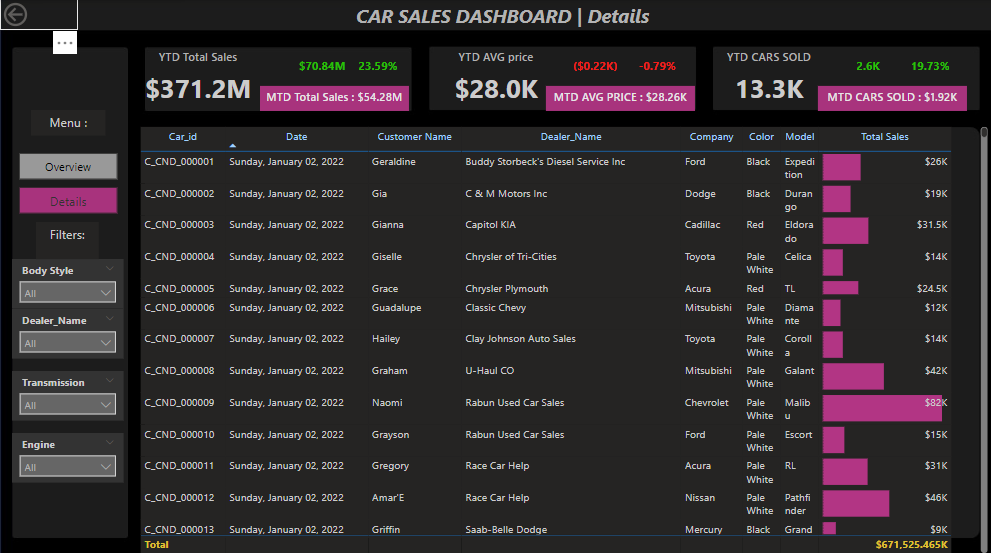

This screenshot's page, from the dashboard's own definition file:
{"tool":"powerbi","page":{"name":"Details","canvas":[1280,720],"ordinal":1},"visuals":[{"type":"card","title":"YTD Total Sales","fields":{"Values":["car_data.YTD TOTALSALES"]},"box":[176,64,160,80],"z":0},{"type":"card","fields":{"Values":["car_data.Sales Difference"]},"box":[368,64,96,48],"z":1000},{"type":"card","fields":{"Values":["car_data.YOY Sales Growth"]},"box":[448,64,80,48],"z":2000},{"type":"card","fields":{"Values":["car_data.MTD KPI"]},"box":[336,112,192,32],"z":3000},{"type":"card","title":"YTD AVG price","fields":{"Values":["car_data.YTD AVG price"]},"box":[560,64,160,80],"z":4000},{"type":"card","fields":{"Values":["car_data.AVG PRICE DIFF"]},"box":[720,64,96,48],"z":5000},{"type":"card","fields":{"Values":["car_data.YOY AVG PRICE GROWTH"]},"box":[800,64,96,48],"z":6000},{"type":"card","fields":{"Values":["car_data.MTD AVG PRICE KPI"]},"box":[704,112,192,32],"z":7000},{"type":"card","title":"YTD CARS SOLD","fields":{"Values":["car_data.YTD CARS SOLD"]},"box":[912,64,160,80],"z":8000},{"type":"card","fields":{"Values":["car_data.CARS SOLD DIFF"]},"box":[1072,64,96,48],"z":9000},{"type":"card","fields":{"Values":["car_data.YOY CAR SOLD GROWTH"]},"box":[1152,64,96,48],"z":10000},{"type":"card","fields":{"Values":["car_data.MTD CARS SOLD KPI"]},"box":[1056,112,192,32],"z":11000},{"type":"actionButton","box":[0,0,100,40],"z":12000},{"type":"textbox","box":[384,0,528,48],"z":13000},{"type":"slicer","fields":{"Values":["car_data.Body Style"]},"box":[16,336,144,64],"z":14000},{"type":"slicer","fields":{"Values":["car_data.Dealer_Name"]},"box":[16,400,144,64],"z":15000},{"type":"slicer","fields":{"Values":["car_data.Transmission"]},"box":[16,480,144,64],"z":16000},{"type":"slicer","fields":{"Values":["car_data.Engine"]},"box":[16,560,144,64],"z":17000},{"type":"textbox","box":[46.8,287.7,80.8,48.2],"z":18000},{"type":"tableEx","fields":{"Values":["car_data.Car_id","car_data.Date","car_data.Customer Name","car_data.Dealer_Name","car_data.Company","car_data.Color","car_data.Model","car_data.Price ($)"]},"box":[176,160,1104,560],"z":19000},{"type":"pageNavigator","box":[24.1,198.4,127.6,79.4],"z":20000},{"type":"textbox","box":[39.7,143.1,96.4,32.6],"z":21000}]}

Visuals, with their boxes on the page's 1280x720 design canvas (x1, y1, x2, y2). These are canvas units, not pixel positions in the 991x553 screenshot, which may show the page scaled, cropped or inside an application window:
"YTD Total Sales" card: {"left": 176, "top": 64, "right": 336, "bottom": 144}
card - car_data.Sales Difference: {"left": 368, "top": 64, "right": 464, "bottom": 112}
card - car_data.YOY Sales Growth: {"left": 448, "top": 64, "right": 528, "bottom": 112}
card - car_data.MTD KPI: {"left": 336, "top": 112, "right": 528, "bottom": 144}
"YTD AVG price" card: {"left": 560, "top": 64, "right": 720, "bottom": 144}
card - car_data.AVG PRICE DIFF: {"left": 720, "top": 64, "right": 816, "bottom": 112}
card - car_data.YOY AVG PRICE GROWTH: {"left": 800, "top": 64, "right": 896, "bottom": 112}
card - car_data.MTD AVG PRICE KPI: {"left": 704, "top": 112, "right": 896, "bottom": 144}
"YTD CARS SOLD" card: {"left": 912, "top": 64, "right": 1072, "bottom": 144}
card - car_data.CARS SOLD DIFF: {"left": 1072, "top": 64, "right": 1168, "bottom": 112}
card - car_data.YOY CAR SOLD GROWTH: {"left": 1152, "top": 64, "right": 1248, "bottom": 112}
card - car_data.MTD CARS SOLD KPI: {"left": 1056, "top": 112, "right": 1248, "bottom": 144}
actionButton: {"left": 0, "top": 0, "right": 100, "bottom": 40}
textbox: {"left": 384, "top": 0, "right": 912, "bottom": 48}
slicer - car_data.Body Style: {"left": 16, "top": 336, "right": 160, "bottom": 400}
slicer - car_data.Dealer_Name: {"left": 16, "top": 400, "right": 160, "bottom": 464}
slicer - car_data.Transmission: {"left": 16, "top": 480, "right": 160, "bottom": 544}
slicer - car_data.Engine: {"left": 16, "top": 560, "right": 160, "bottom": 624}
textbox: {"left": 47, "top": 288, "right": 128, "bottom": 336}
tableEx - car_data.Car_id x car_data.Date: {"left": 176, "top": 160, "right": 1280, "bottom": 720}
pageNavigator: {"left": 24, "top": 198, "right": 152, "bottom": 278}
textbox: {"left": 40, "top": 143, "right": 136, "bottom": 176}
